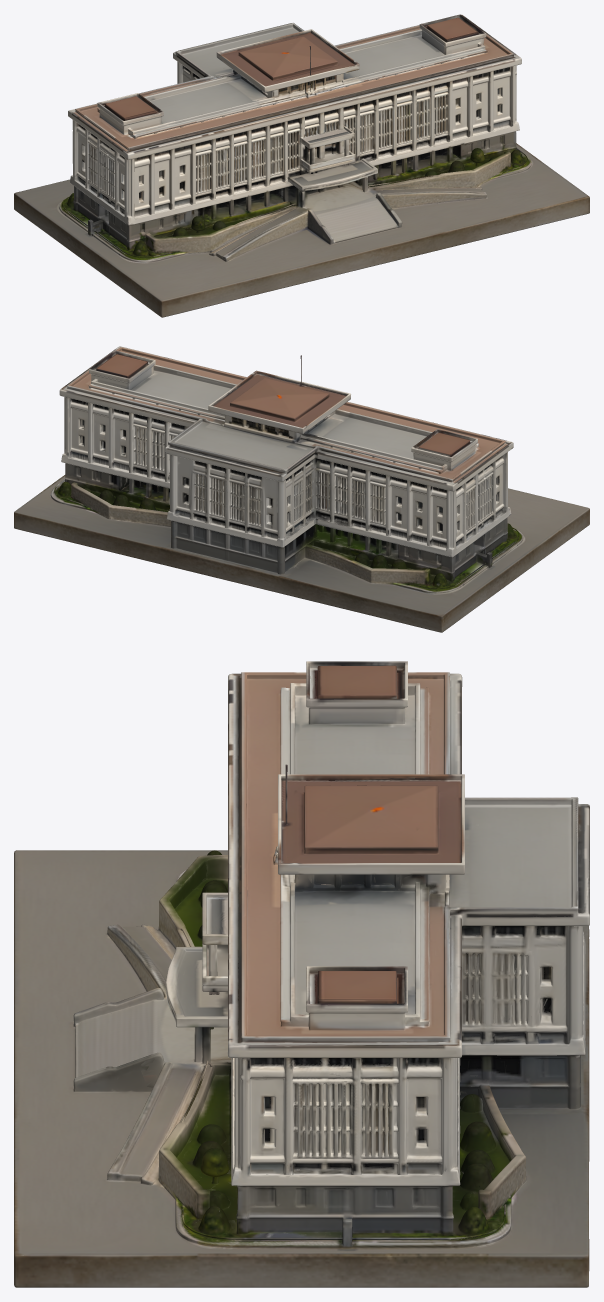
File: dinhdoclap.glb
The picture shows the model from 3 angles, top to bottom: view 1: azimuth 30°, elevation 25°; view 2: azimuth 150°, elevation 25°; view 3: azimuth 270°, elevation 25°; orthographic projection. The views are drawn at different scales.
Visible parts, largest first — view 1: node_0; view 2: node_0; view 3: node_0.
Part boxes in pixels (bbox=[...]): node_0: bbox=[14, 14, 589, 317]; node_0: bbox=[14, 346, 589, 632]; node_0: bbox=[14, 661, 589, 1287].
Bounding box in the file's own units: 0.9799 × 0.3662 × 0.5875.
Materials: 1 (1 with a texture image).
